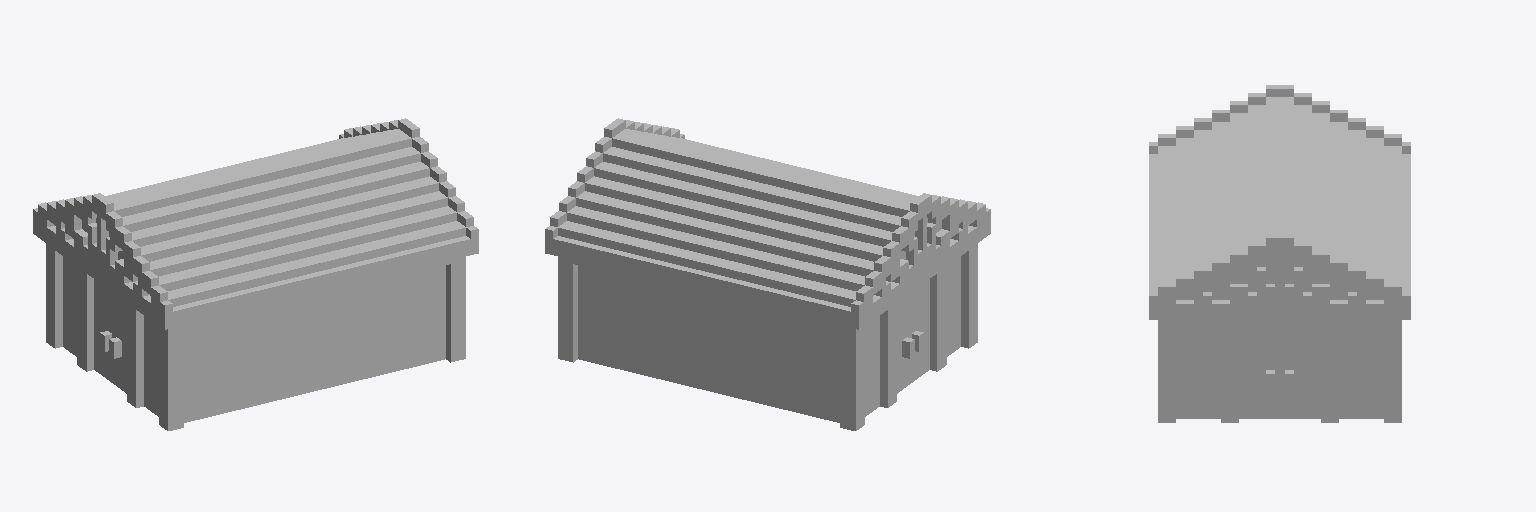
File: Stall_Snow.obj
3 renders of one model, left to right at view 1: azimuth 30°, elevation 25°; view 2: azimuth 150°, elevation 25°; view 3: azimuth 270°, elevation 25°, orthographic.
Visible parts, largest first — view 1: Stall_Snow; view 2: Stall_Snow; view 3: Stall_Snow.
Boxes of the visible parts, <box> form: Stall_Snow: <box>33,118,478,430</box>; Stall_Snow: <box>545,118,990,430</box>; Stall_Snow: <box>1149,85,1410,422</box>.
Bounding box in the file's own units: 40 × 23 × 29.